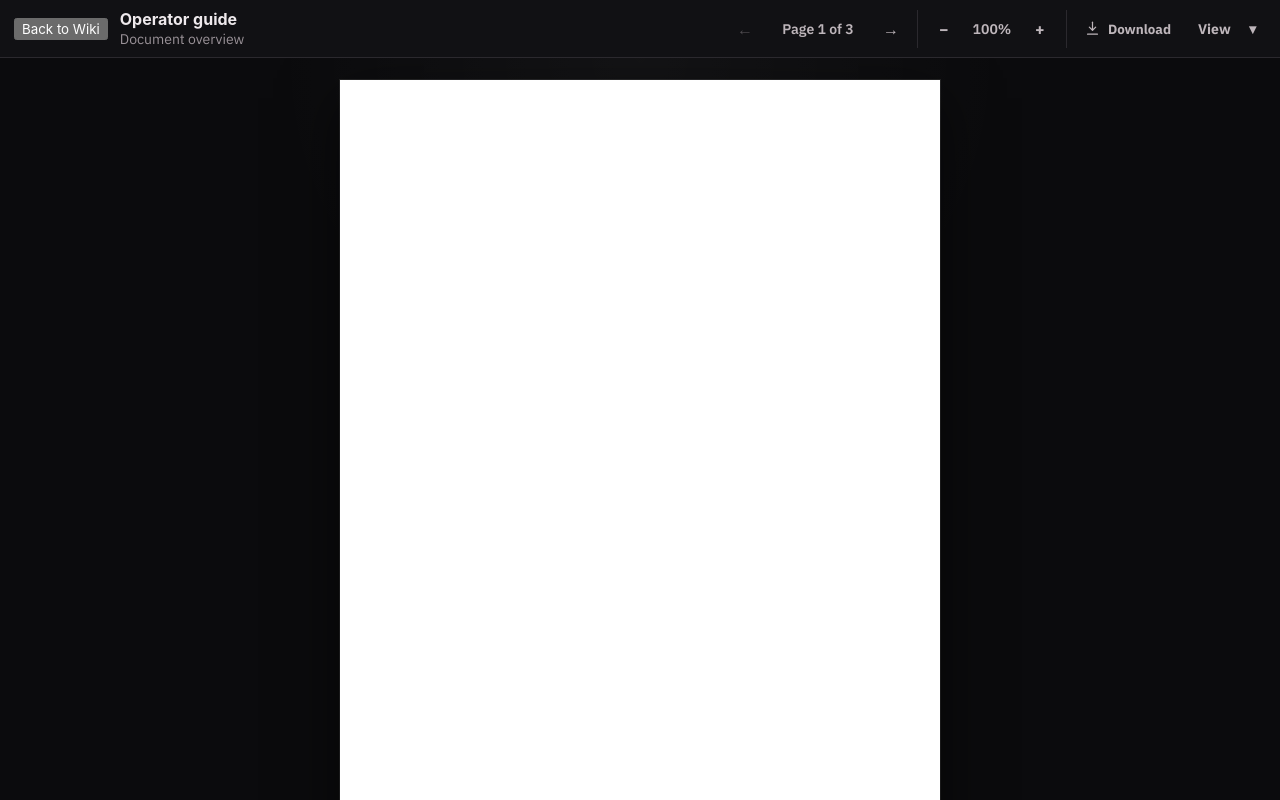
Scenario: KnowledgePdfViewer › groups the compact reader controls and exposes secondary options from View
expect the text "Page 1 of 3" is shown: met, box [782, 20, 854, 38]
expect the element "Back to Wiki" is shown: met, box [14, 18, 108, 40]
What coordinates should you click on to do the following:
click the button with aria-label "View options: Single page"
I would click on:
 (1227, 28)
Its box is [1188, 10, 1266, 48].
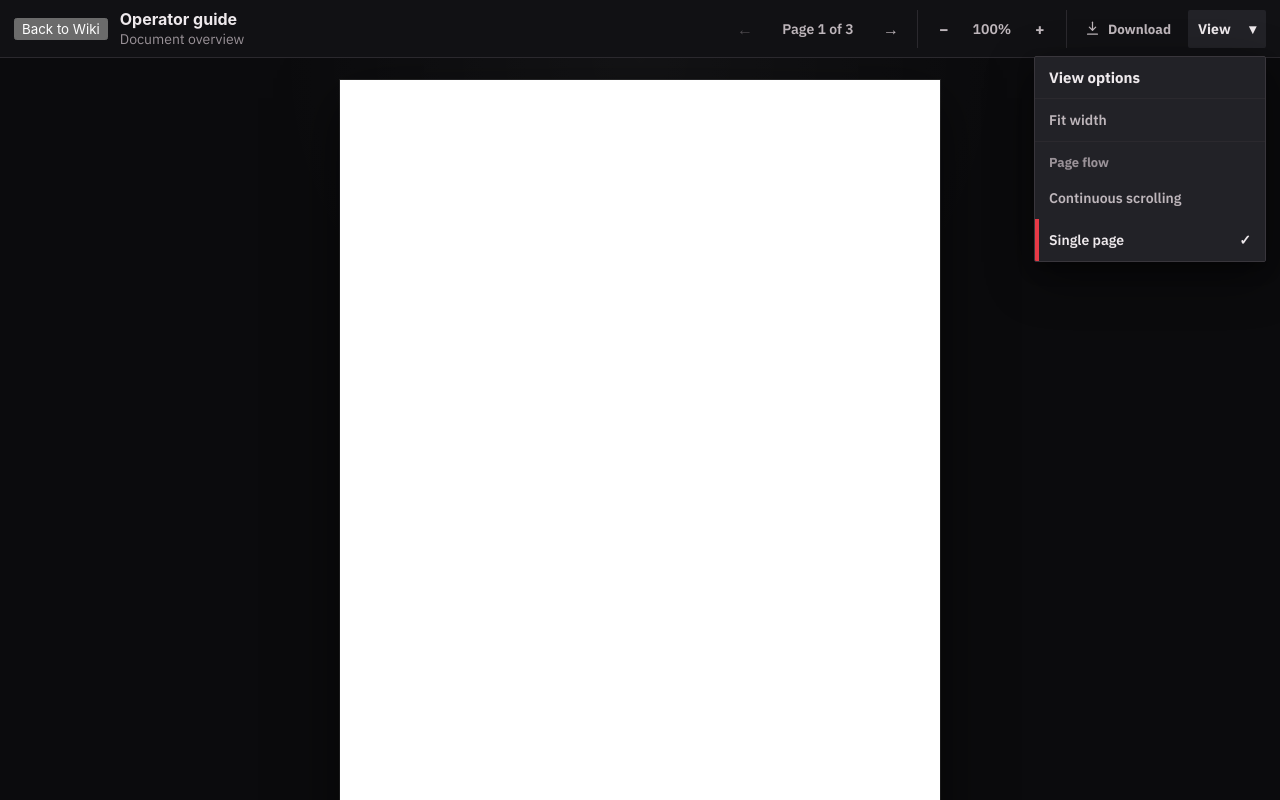
expect the button "Fit width" is shown: met, box [1035, 98, 1265, 140]
